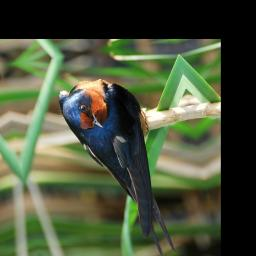Swallow: (53, 70, 178, 256)
